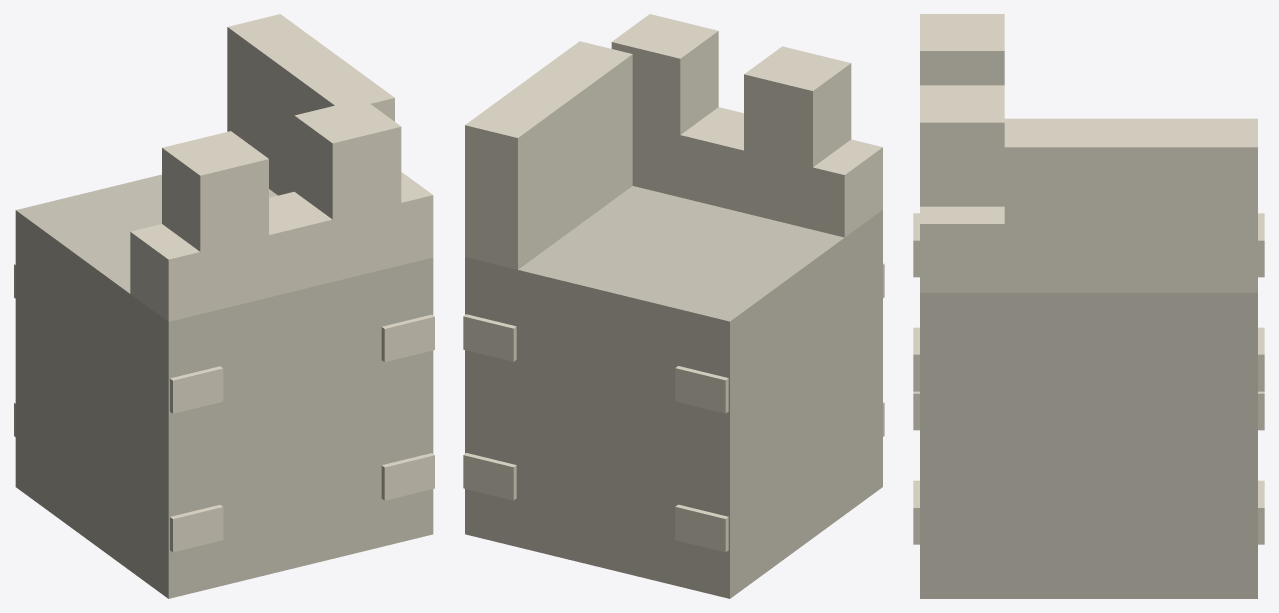
Rendered from curtain-end-low.glb.
3 views of the same model, side by side, from view 1: azimuth 30°, elevation 25°; view 2: azimuth 150°, elevation 25°; view 3: azimuth 270°, elevation 25° (orthographic). The views are drawn at different scales.
Visible parts, largest first — view 1: curtain-end-low; view 2: curtain-end-low; view 3: curtain-end-low.
Part boxes in pixels (x1,y1,x2,y2): curtain-end-low: (14, 14, 434, 598); curtain-end-low: (463, 14, 884, 598); curtain-end-low: (913, 14, 1264, 598).
Bounding box in the file's own units: 2 × 3 × 2.08.
